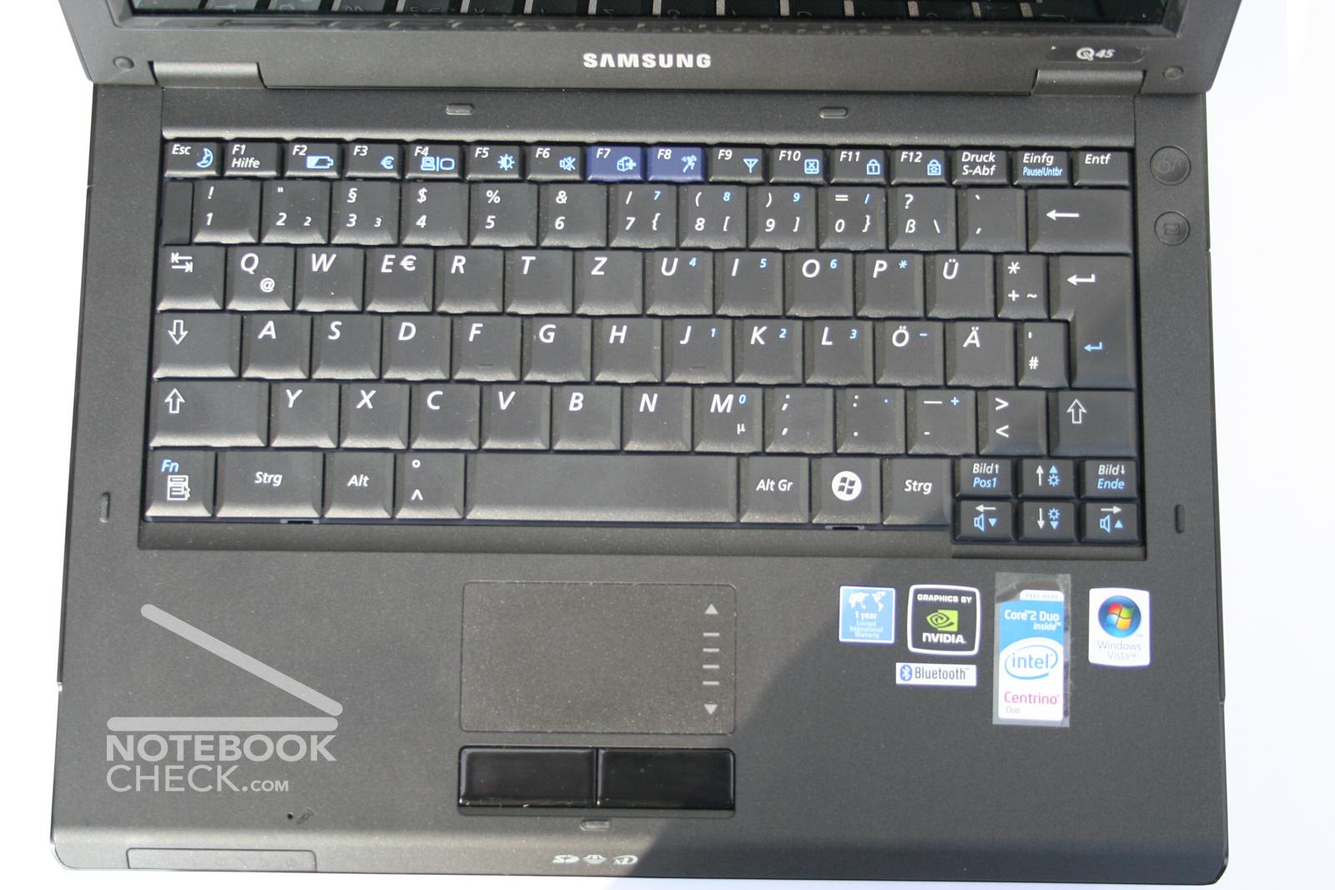0: (817, 181, 884, 248)
1: (190, 173, 254, 238)
2: (257, 173, 326, 239)
3: (327, 173, 395, 240)
4: (399, 174, 464, 242)
5: (466, 175, 533, 242)
6: (537, 177, 603, 244)
7: (608, 178, 674, 245)
8: (677, 179, 743, 245)
9: (747, 180, 813, 247)
a: (239, 309, 306, 374)
accent: (956, 181, 1020, 248)
ae: (945, 316, 1011, 383)
alt-left: (322, 446, 391, 515)
altgr-right: (737, 450, 807, 520)
b: (547, 379, 618, 448)
c: (409, 377, 478, 445)
caret: (398, 451, 462, 516)
comma: (762, 380, 830, 450)
d: (379, 309, 447, 376)
del: (1026, 182, 1129, 249)
e: (362, 241, 432, 309)
enter: (1050, 249, 1131, 386)
f: (451, 309, 518, 377)
g: (521, 311, 586, 377)
h: (590, 312, 657, 379)
hash: (1015, 315, 1064, 384)
i: (713, 245, 780, 313)
j: (662, 313, 728, 380)
k: (733, 314, 800, 381)
keyboard: (129, 123, 1148, 554)
l: (805, 314, 870, 381)
less: (978, 384, 1044, 452)
m: (690, 380, 760, 450)
minus: (907, 383, 975, 450)
n: (620, 380, 687, 448)
o: (782, 246, 851, 314)
oe: (873, 314, 941, 384)
p: (854, 246, 920, 314)
plus: (994, 248, 1043, 315)
point: (834, 381, 904, 450)
q: (222, 239, 292, 308)
r: (432, 243, 501, 310)
s: (310, 309, 376, 375)
shift-left: (146, 373, 264, 443)
shift-lock: (149, 306, 236, 374)
shift-right: (1050, 385, 1136, 454)
space: (466, 448, 736, 519)
ss: (885, 180, 950, 247)
strg-left: (213, 445, 322, 515)
strg-right: (881, 452, 950, 523)
t: (502, 244, 569, 310)
tab: (154, 239, 222, 305)
u: (642, 244, 710, 313)
ue: (924, 248, 990, 315)
v: (478, 378, 546, 445)
w: (293, 239, 360, 308)
x: (339, 377, 406, 445)
y: (268, 376, 336, 445)
z: (572, 244, 640, 311)
